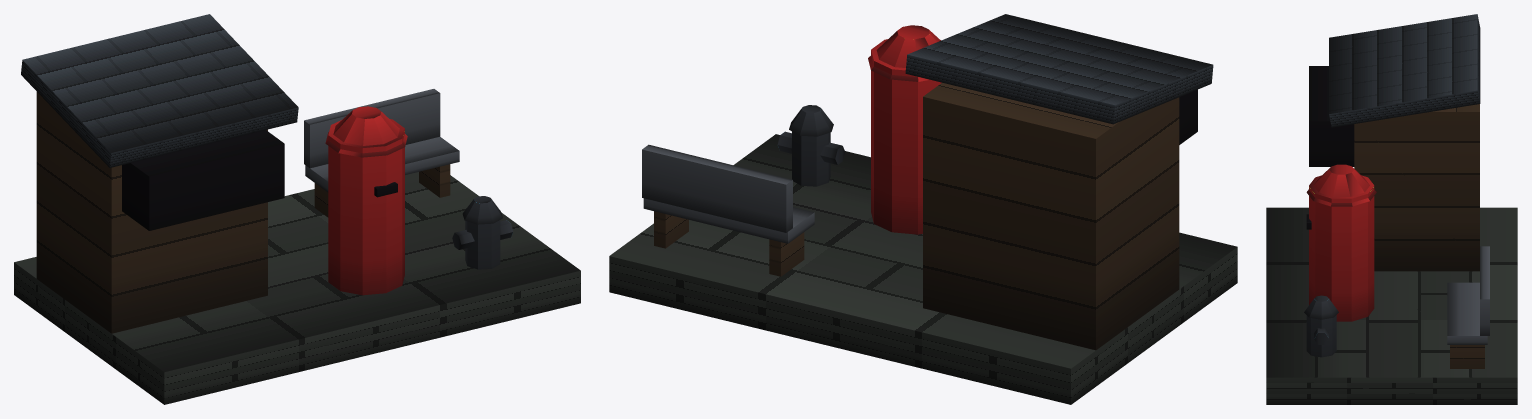
File: street_kiosk.glb
The picture shows the model from 3 angles, left to right: view 1: azimuth 30°, elevation 25°; view 2: azimuth 150°, elevation 25°; view 3: azimuth 270°, elevation 25°; orthographic projection. The views are drawn at different scales.
Visible parts, largest first — view 1: street_kiosk; view 2: street_kiosk; view 3: street_kiosk.
Part boxes in pixels (x1,y1,x2,y2): street_kiosk: (14,14,580,404); street_kiosk: (609,14,1237,404); street_kiosk: (1266,14,1517,404).
Size of the model in its own units: 1.66 by 0.9416 by 1.
Materials: 1 (1 with a texture image).
